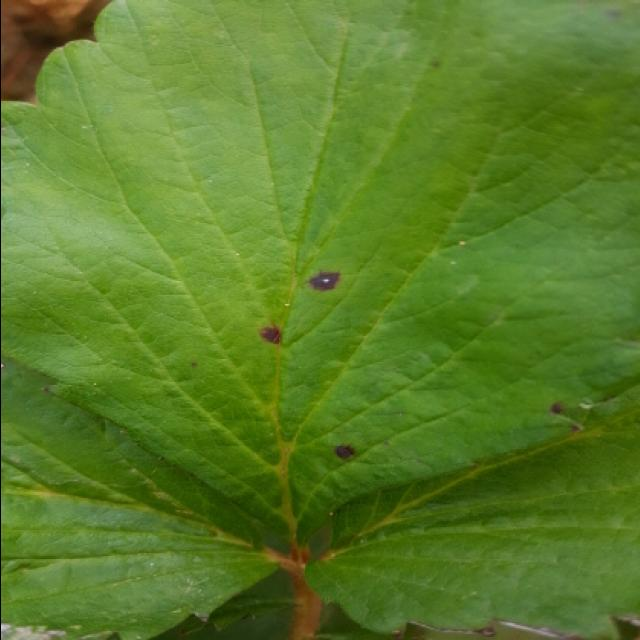Leaf Spot: (2, 0, 640, 553)
